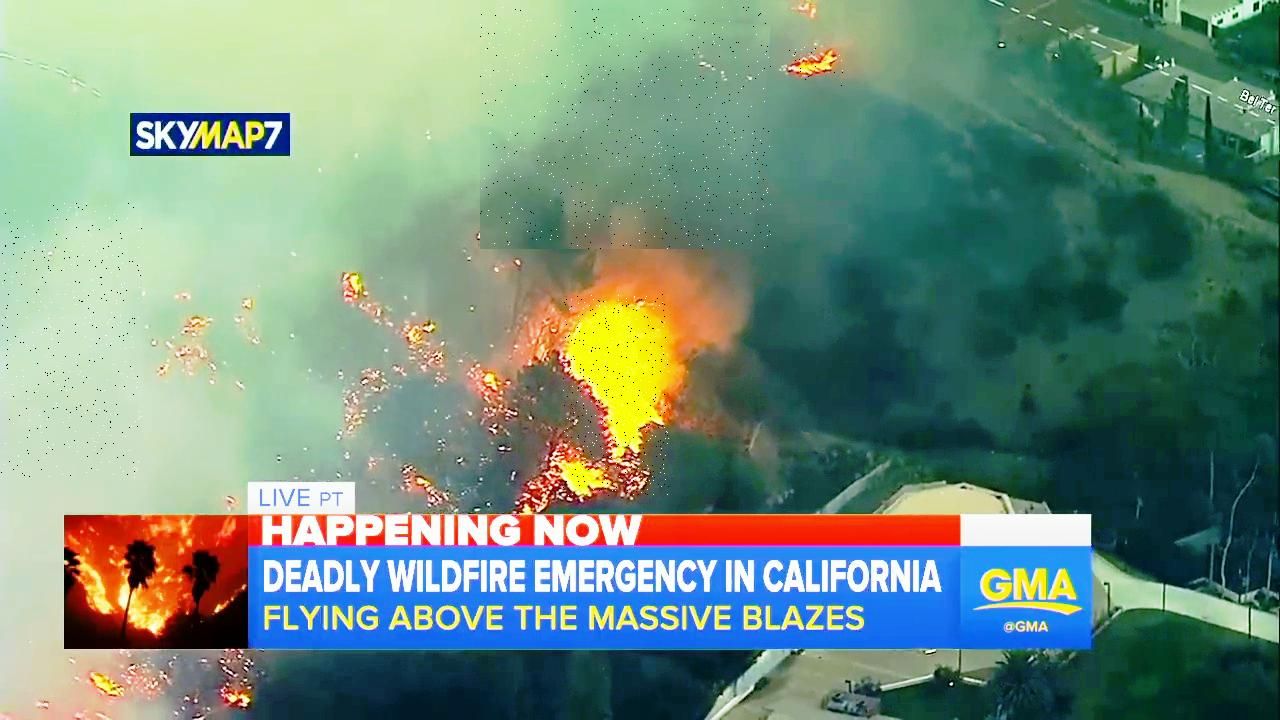fire: (563, 294, 669, 496), (787, 47, 843, 87)
smoke: (480, 6, 771, 249), (1, 203, 142, 478)
